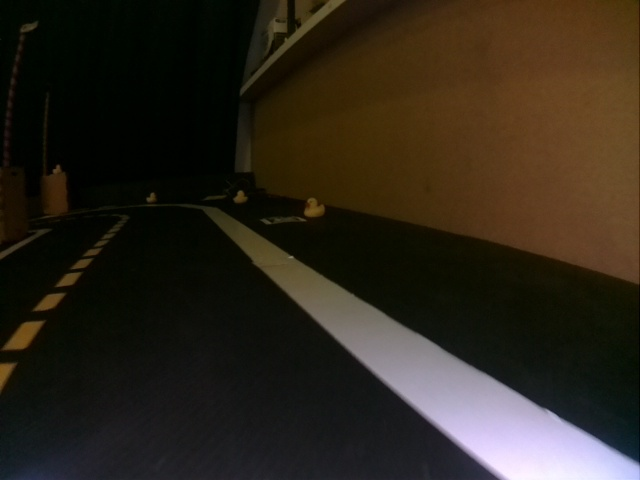Duckie: (304, 198, 322, 217), (235, 191, 245, 201), (55, 164, 62, 173), (148, 192, 155, 201)
QR code: (260, 215, 304, 223), (209, 193, 225, 202)
